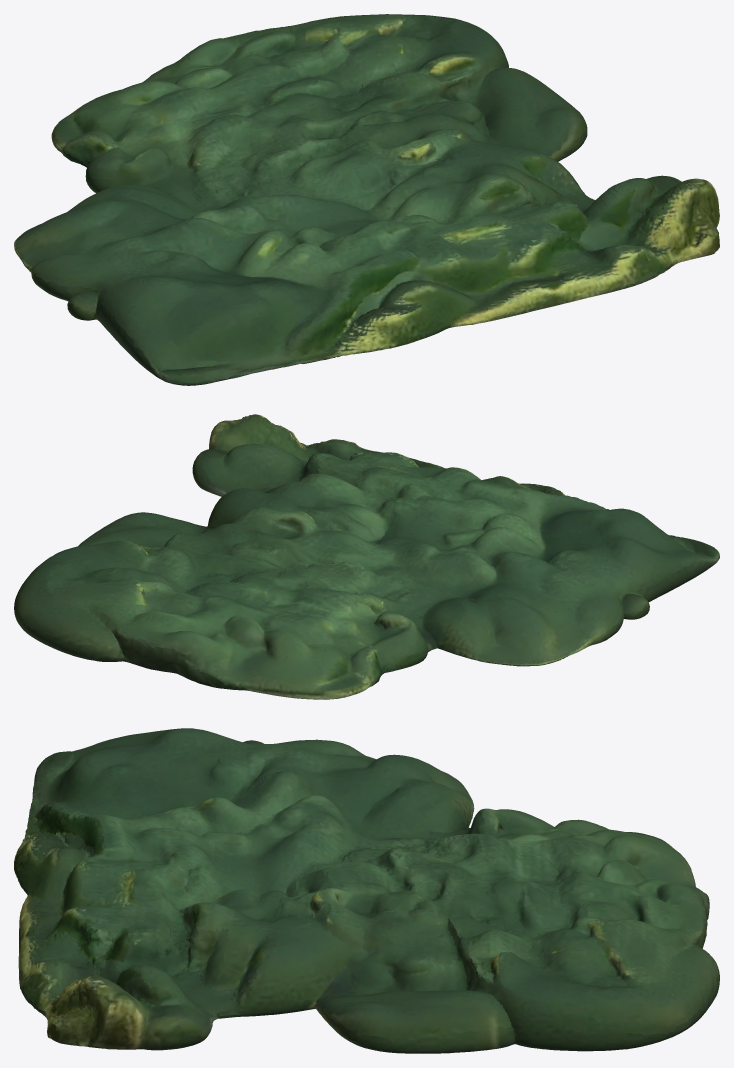
File: wet-moss-v6.glb
3 views of the same model, one above another, from view 1: azimuth 30°, elevation 25°; view 2: azimuth 150°, elevation 25°; view 3: azimuth 270°, elevation 25° (orthographic). The views are drawn at different scales.
Parts seen in each view (by area): view 1: geometry_0; view 2: geometry_0; view 3: geometry_0.
Boxes of the visible parts, x1,y1,x2,y2 form: geometry_0: (14,14,719,385); geometry_0: (14,414,719,699); geometry_0: (14,728,719,1053).
Size of the model in its own units: 0.3 by 0.0291 by 0.2989.
Materials: 1 (1 with a texture image).
